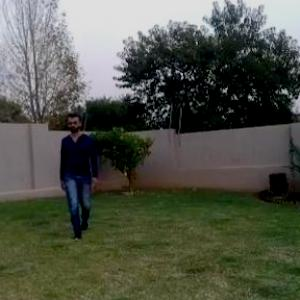follow: (58, 115, 98, 238)
